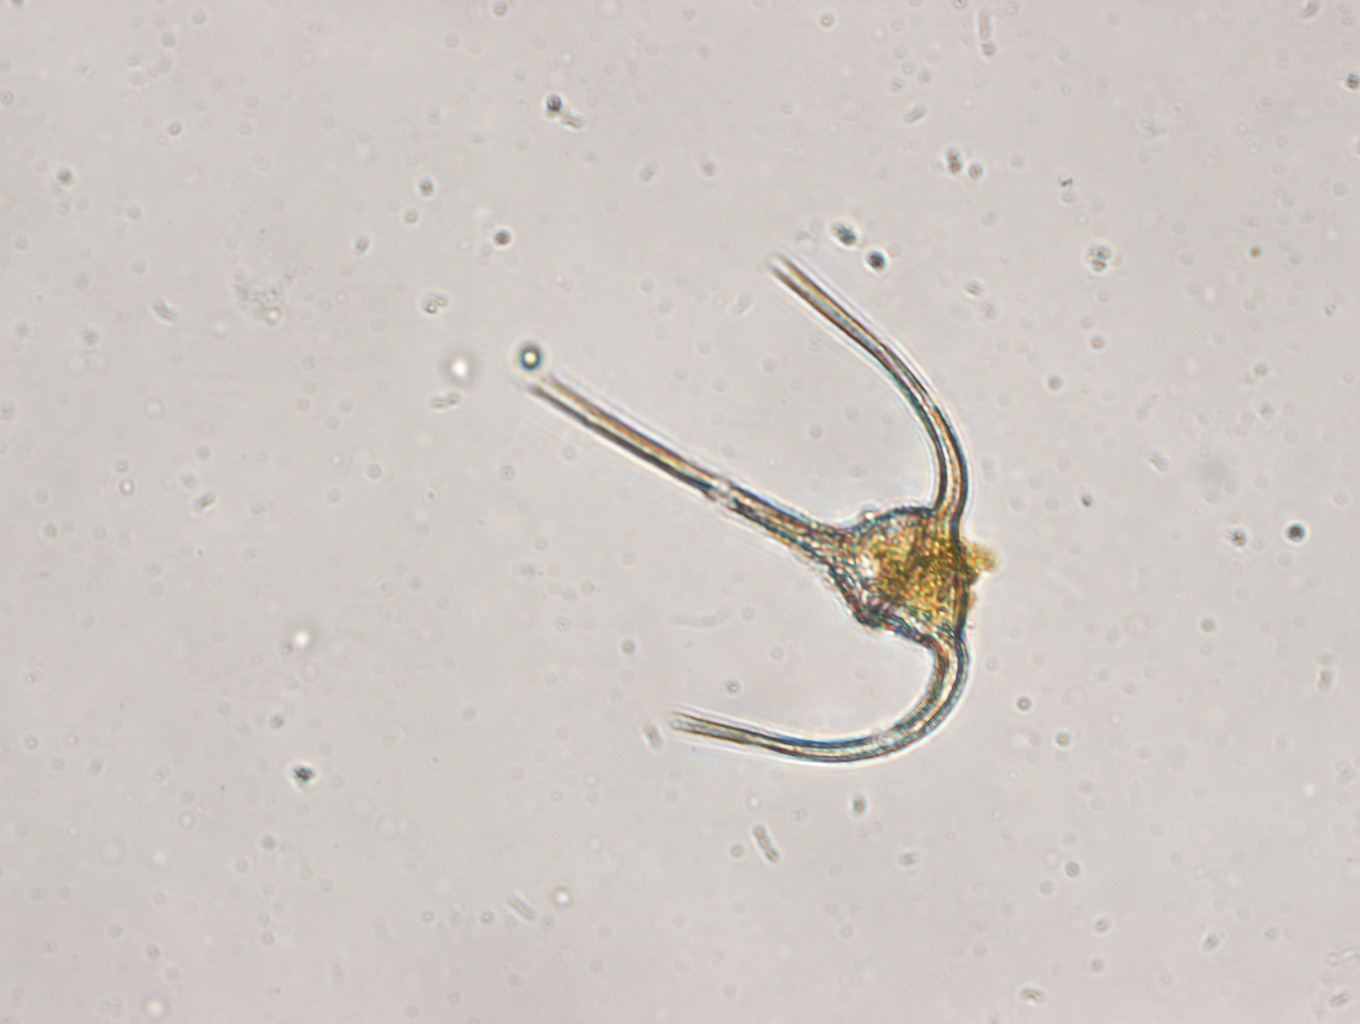ceratium trichoceros: (512, 243, 983, 773)
